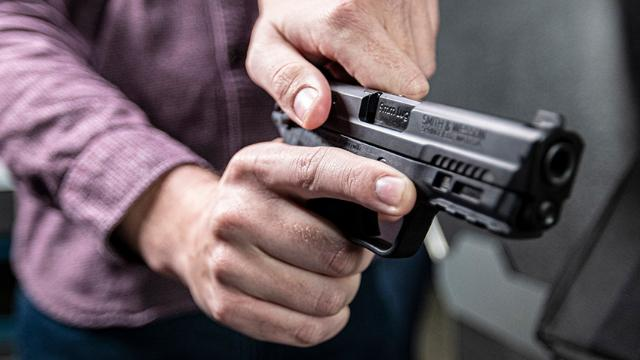handgun: (262, 62, 594, 264)
